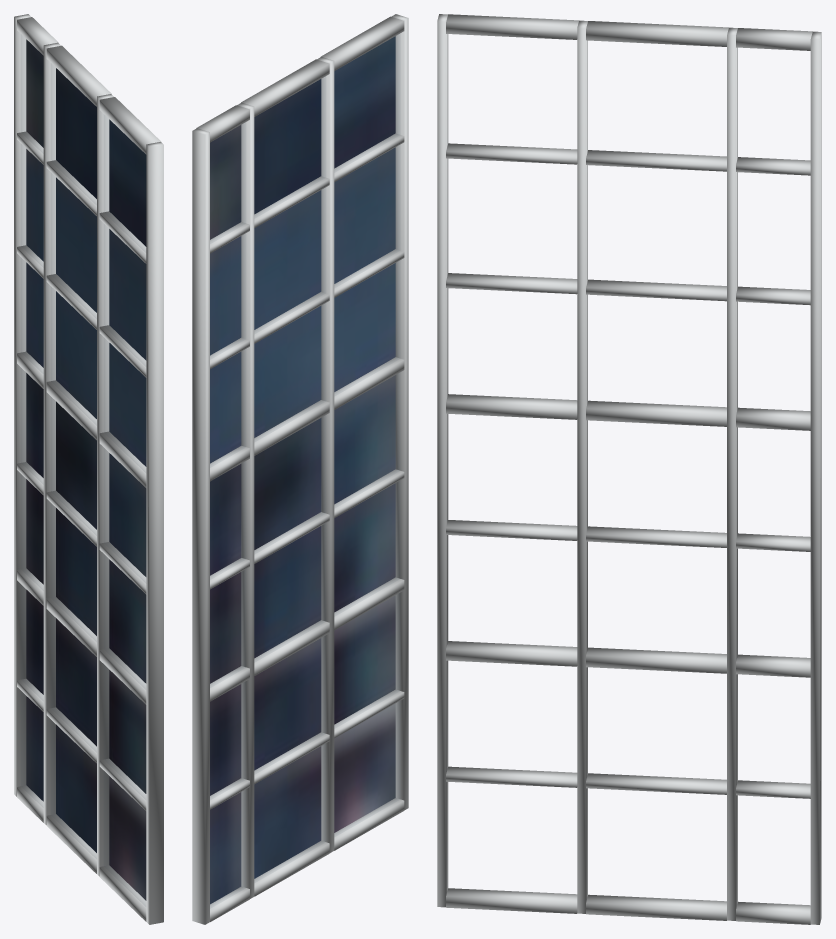
3 views of the same model, side by side, from view 1: azimuth 30°, elevation 25°; view 2: azimuth 150°, elevation 25°; view 3: azimuth 270°, elevation 25° (orthographic). The views are drawn at different scales.
Visible parts, largest first — view 1: Interior colour, Mullions; view 2: Interior colour, Mullions; view 3: Mullions.
Boxes of the visible parts, bbox=[...] form: Interior colour: bbox=[26, 39, 146, 900]; Mullions: bbox=[14, 14, 163, 924]; Interior colour: bbox=[210, 36, 395, 904]; Mullions: bbox=[192, 14, 408, 924]; Mullions: bbox=[437, 14, 821, 924].
Bounding box in the file's own units: 0.5178 × 8.4 × 3.3.
3 materials, 1 textured.
